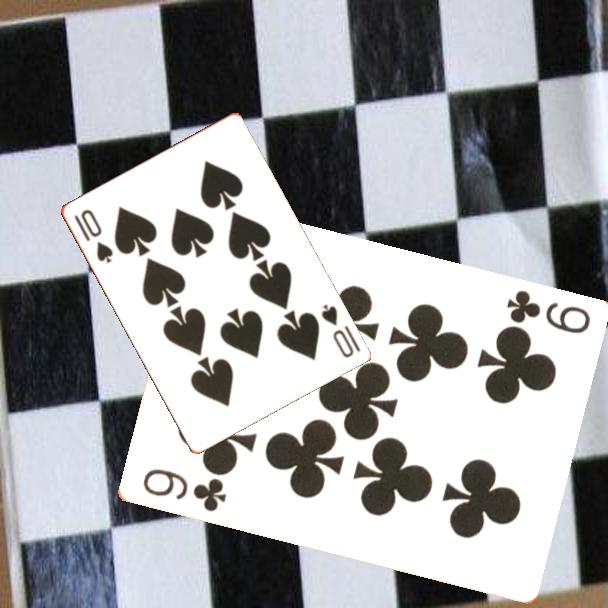c09: (502, 286, 593, 337), (139, 465, 229, 515)
s10: (317, 301, 363, 361), (70, 205, 115, 266)
